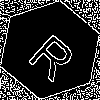R: (25, 25, 85, 83)
